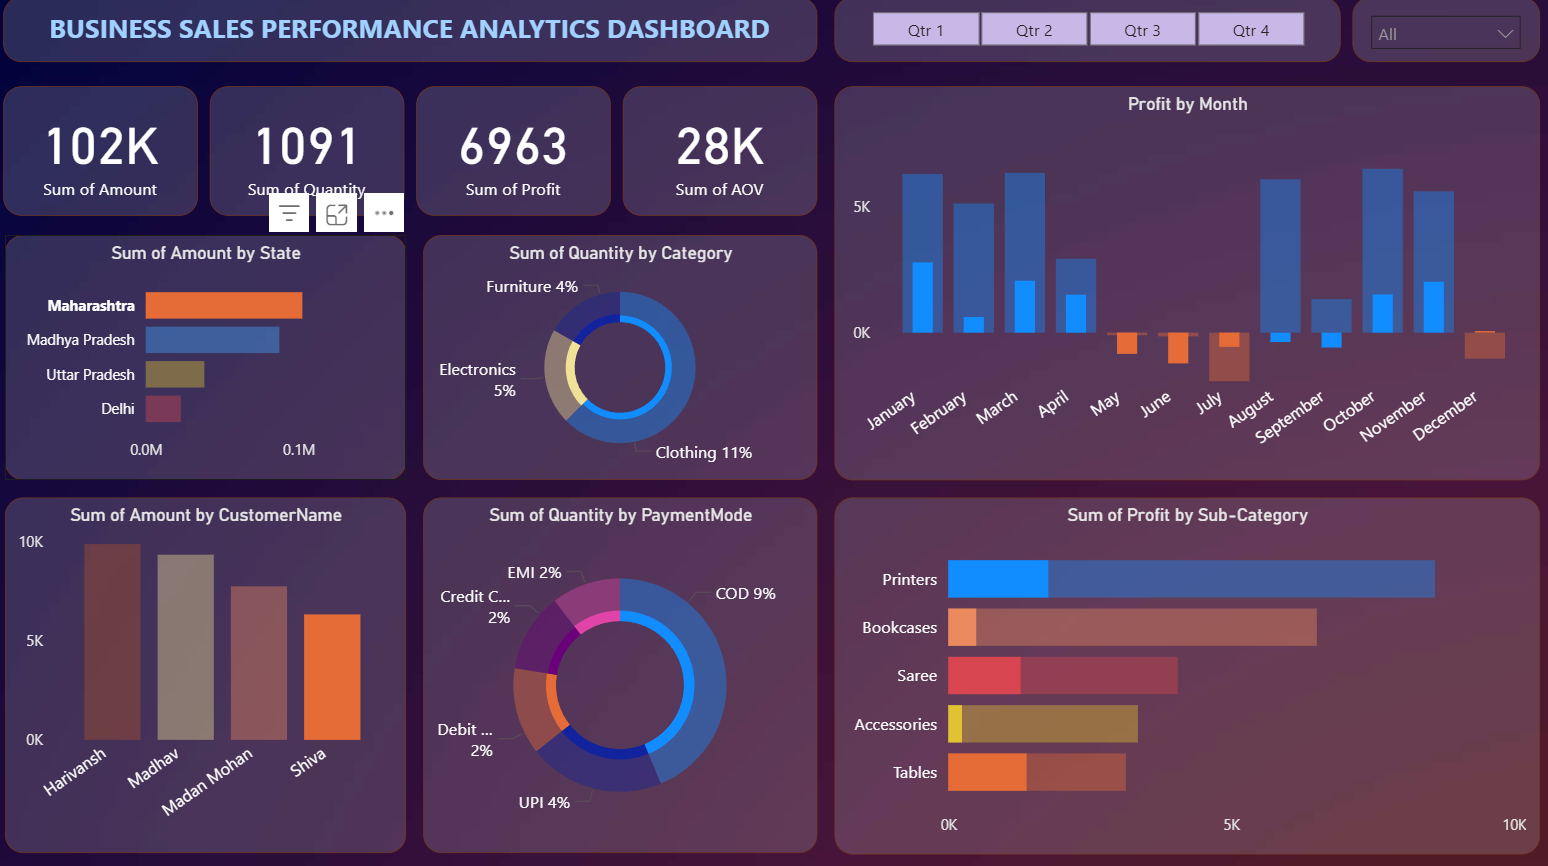

The dashboard page shown, as its layout file describes it:
{"tool":"powerbi","page":{"name":"Page 1","canvas":[1280,720],"ordinal":0},"visuals":[{"type":"textbox","box":[10,0,664.3,52.9],"z":0},{"type":"columnChart","title":"Profit by Month","fields":{"Y":["Sum(Details.Profit)"],"Category":["Orders.Order Date.Variation.Date Hierarchy.Month"]},"box":[688.6,72.9,575.7,321.4],"z":1000},{"type":"barChart","fields":{"Category":["Details.Sub-Category"],"Y":["Sum(Details.Profit)"]},"box":[688.6,408.6,575.7,291.4],"z":2000},{"type":"donutChart","fields":{"Category":["Details.Category"],"Y":["Sum(Details.Quantity)"]},"box":[352.9,194.3,321.4,200],"z":3000},{"type":"donutChart","fields":{"Y":["Sum(Details.Quantity)"],"Category":["Details.PaymentMode"]},"box":[352.9,408.6,321.4,290],"z":4000},{"type":"card","fields":{"Values":["Sum(Details.Amount)"]},"box":[10,72.9,158.6,105.7],"z":5000},{"type":"card","fields":{"Values":["Sum(Details.Quantity)"]},"box":[178.6,72.9,158.6,105.7],"z":6000},{"type":"card","fields":{"Values":["Sum(Details.Profit)"]},"box":[347.1,72.9,158.6,105.7],"z":7000},{"type":"card","fields":{"Values":["Sum(Details.AOV)"]},"box":[515.7,72.9,158.6,105.7],"z":8000},{"type":"barChart","fields":{"Category":["Orders.State"],"Y":["Sum(Details.Amount)"]},"box":[11.4,194.3,327.1,200],"z":9000},{"type":"columnChart","fields":{"Category":["Orders.CustomerName"],"Y":["Sum(Details.Amount)"]},"box":[11.4,408.6,327.1,290],"z":10000},{"type":"slicer","fields":{"Values":["Orders.Order Date.Variation.Date Hierarchy.Quarter"]},"box":[688.6,0,412.9,52.9],"z":11000},{"type":"slicer","fields":{"Values":["Orders.State"]},"box":[1111.4,0,152.9,52.9],"z":12000}]}

Visuals, with their boxes in screenshot pixels (x1, y1, x2, y2), scaled from the page's 1280x720 canvas onto the 1548x866 screenshot:
textbox: 12, 0, 815, 64
"Profit by Month" columnChart: 833, 88, 1529, 474
barChart - Details.Sub-Category x Sum(Details.Profit): 833, 491, 1529, 842
donutChart - Details.Category x Sum(Details.Quantity): 427, 234, 815, 474
donutChart - Sum(Details.Quantity) x Details.PaymentMode: 427, 491, 815, 840
card - Sum(Details.Amount): 12, 88, 204, 215
card - Sum(Details.Quantity): 216, 88, 408, 215
card - Sum(Details.Profit): 420, 88, 612, 215
card - Sum(Details.AOV): 624, 88, 815, 215
barChart - Orders.State x Sum(Details.Amount): 14, 234, 409, 474
columnChart - Orders.CustomerName x Sum(Details.Amount): 14, 491, 409, 840
slicer - Orders.Order Date.Variation.Date Hierarchy.Quarter: 833, 0, 1332, 64
slicer - Orders.State: 1344, 0, 1529, 64
